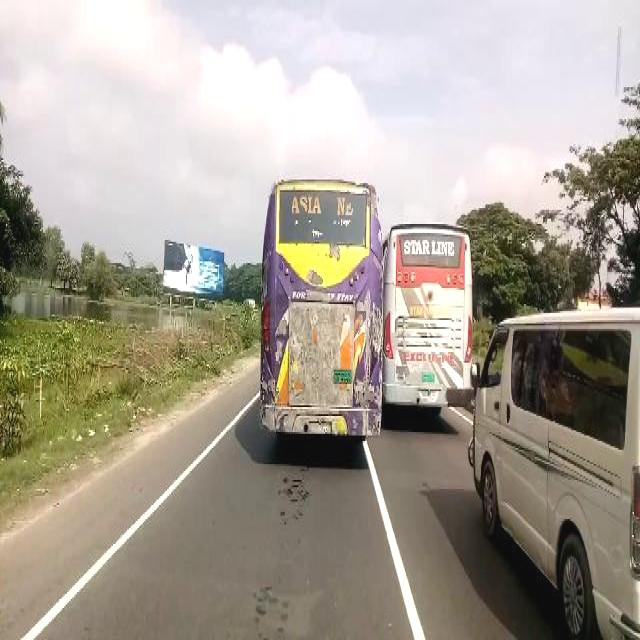BUS: (259, 171, 385, 445), (387, 218, 476, 428)
